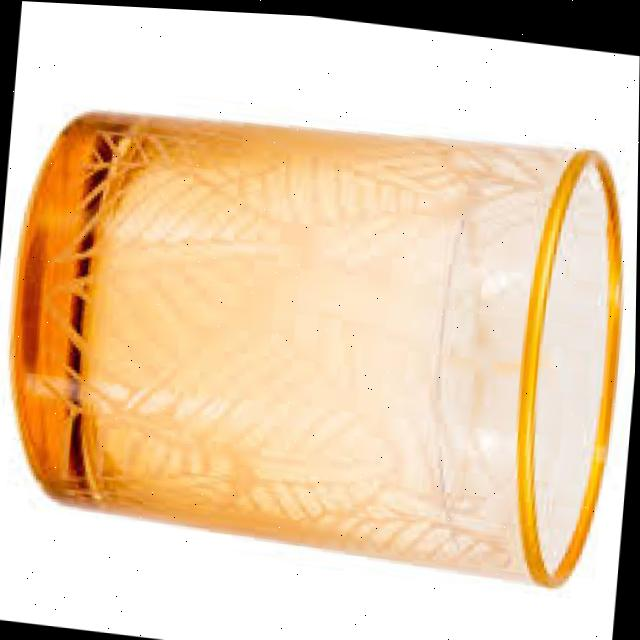Dry: (0, 73, 639, 595)
